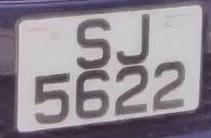2: (149, 57, 189, 113), (113, 62, 152, 119)
5: (28, 66, 73, 130)
6: (70, 65, 114, 124)
J: (111, 4, 158, 67)
S: (69, 13, 116, 72)
